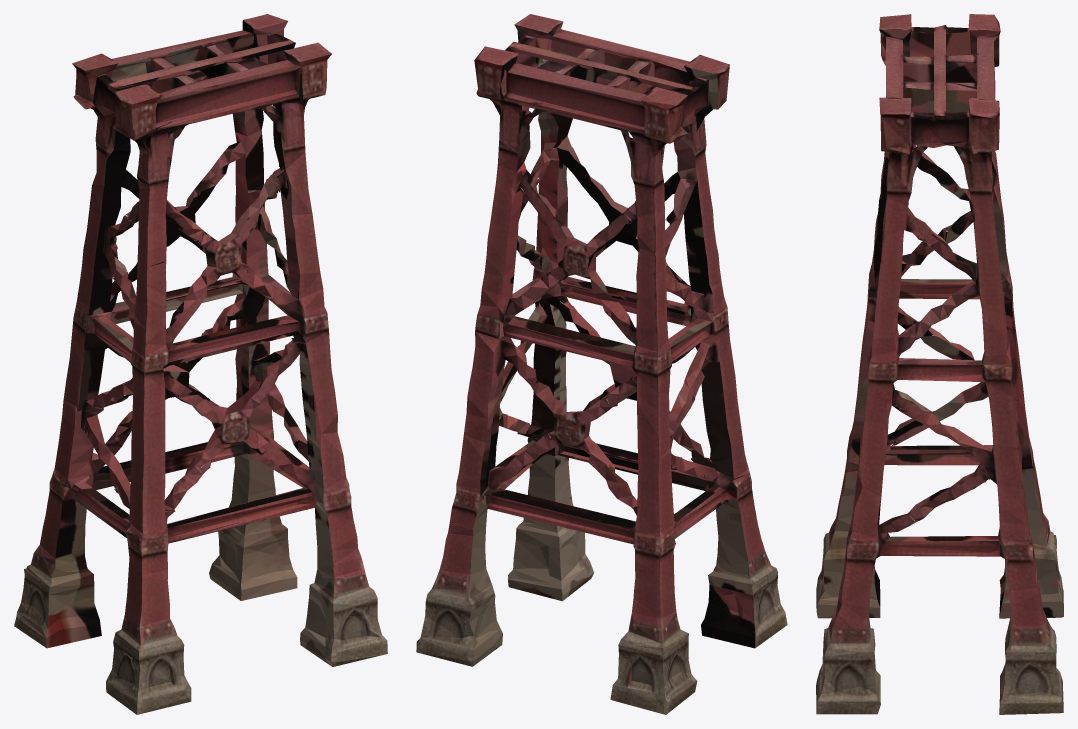
The model's file is park_coaster_support_1117.glb.
3 views of the same model, side by side, from view 1: azimuth 30°, elevation 25°; view 2: azimuth 150°, elevation 25°; view 3: azimuth 270°, elevation 25° (orthographic).
Parts seen in each view (by area): view 1: world; view 2: world; view 3: world.
Part boxes in pixels (<box>): world: <box>14,14,387,714</box>; world: <box>416,14,787,714</box>; world: <box>816,14,1063,714</box>.
Bounding box in the file's own units: 0.4512 × 1 × 0.3814.
Materials: 1 (1 with a texture image).
